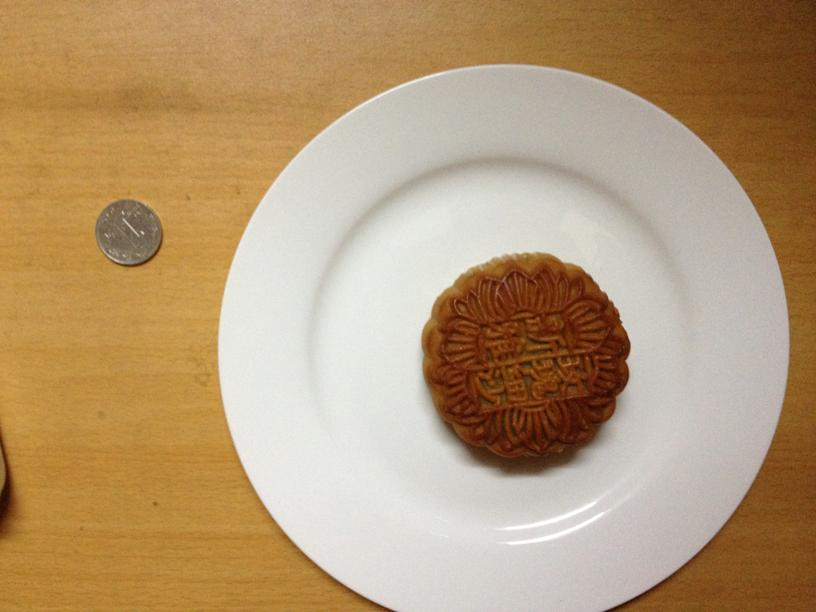coin: (95, 197, 162, 266)
mooncake: (422, 250, 629, 459)
